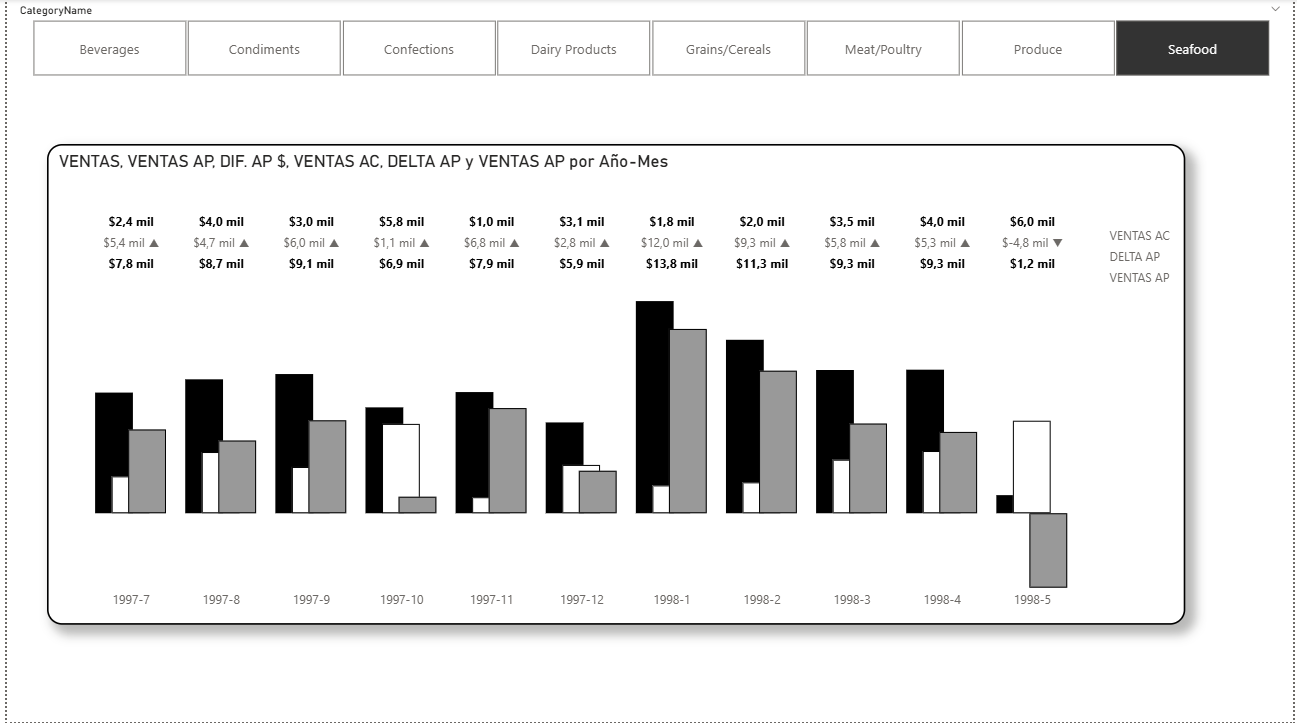

The page's visual inventory and layout, read from the dashboard file:
{"tool":"powerbi","page":{"name":"COLUMNAS","canvas":[1280,720],"ordinal":2},"visuals":[{"type":"slicer","fields":{"Values":["Categories.CategoryName"]},"box":[0,0,1280,83.3],"z":0},{"type":"lineClusteredColumnComboChart","fields":{"Category":["CALENDARIO.Año-Mes"],"Y":["MEDIDAS.VENTAS","MEDIDAS.VENTAS AP","MEDIDAS.DIF. AP $"],"Y2":["MEDIDAS.Linea Ficticia","MEDIDAS.Linea Ficticia 2","MEDIDAS.Linea Ficticia 3"]},"box":[39.5,144.9,1132.7,478.5],"z":1000}]}

Visuals, with their boxes on the page's 1280x720 design canvas (x1, y1, x2, y2). These are canvas units, not pixel positions in the 1297x723 screenshot, which may show the page scaled, cropped or inside an application window:
slicer - Categories.CategoryName: [0, 0, 1280, 83]
lineClusteredColumnComboChart - CALENDARIO.Año-Mes x MEDIDAS.VENTAS: [40, 145, 1172, 623]
